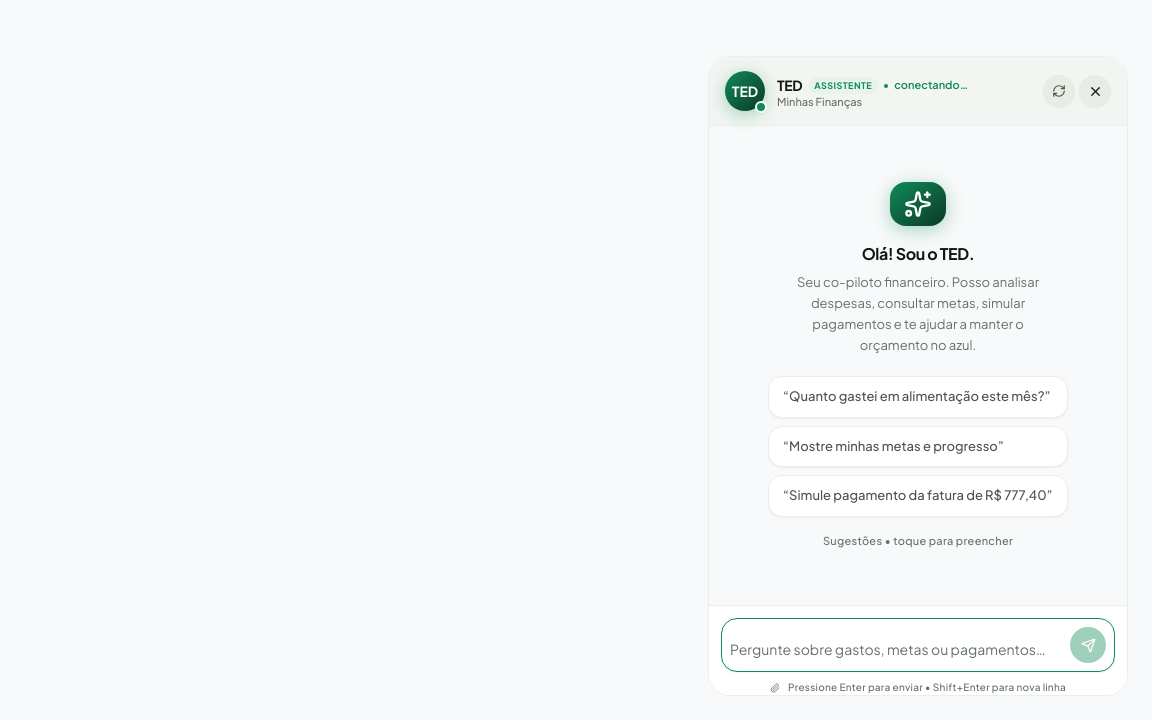
TedChat — post-approval reconciliation (T3.3) › approval success reconciles financial UI AND reloads chat history
This screenshot has width=1152, height=720.
Type "registre mercado 850" into the text box named "Mensagem para o assistente".
click(897, 649); type("registre mercado 850")  # box [730,635,1064,663]
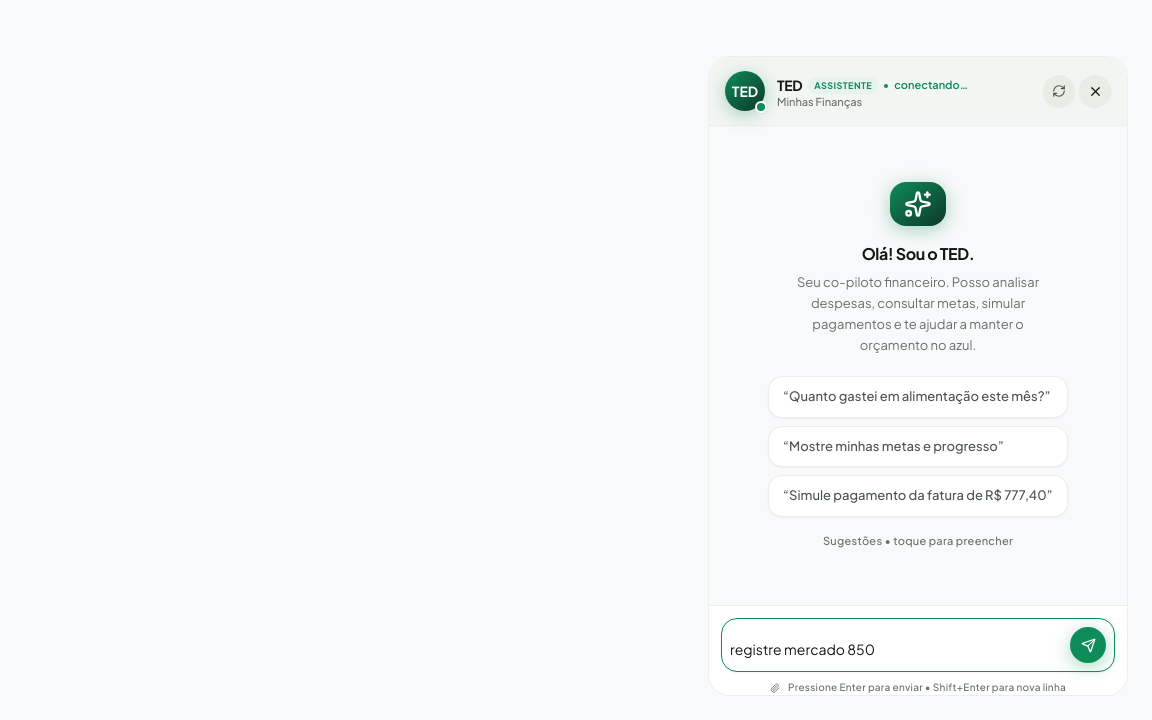
Click the button named "Enviar mensagem".
click(1088, 645)  # box [1070,627,1106,663]
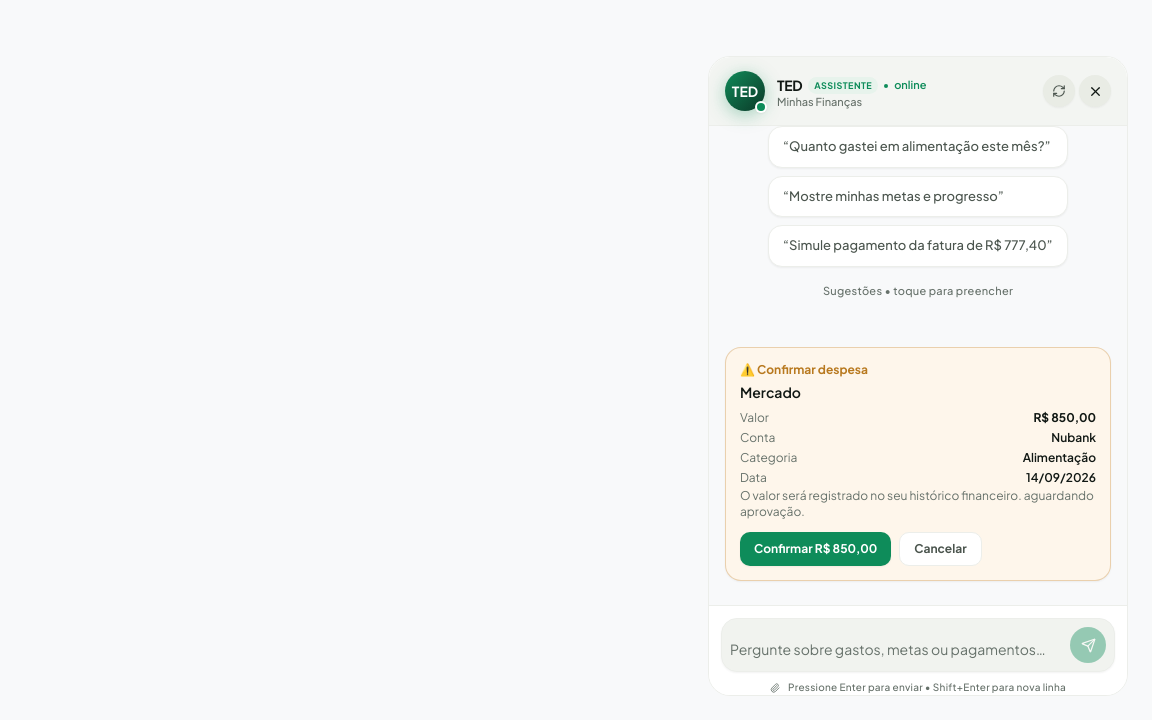
Expected: the button "Confirmar R$ 850,00" is shown
Approve: financial UI reconciles, then chat history reloads.
Click the button "Confirmar R$ 850,00".
click(816, 549)  # box [740,532,891,566]
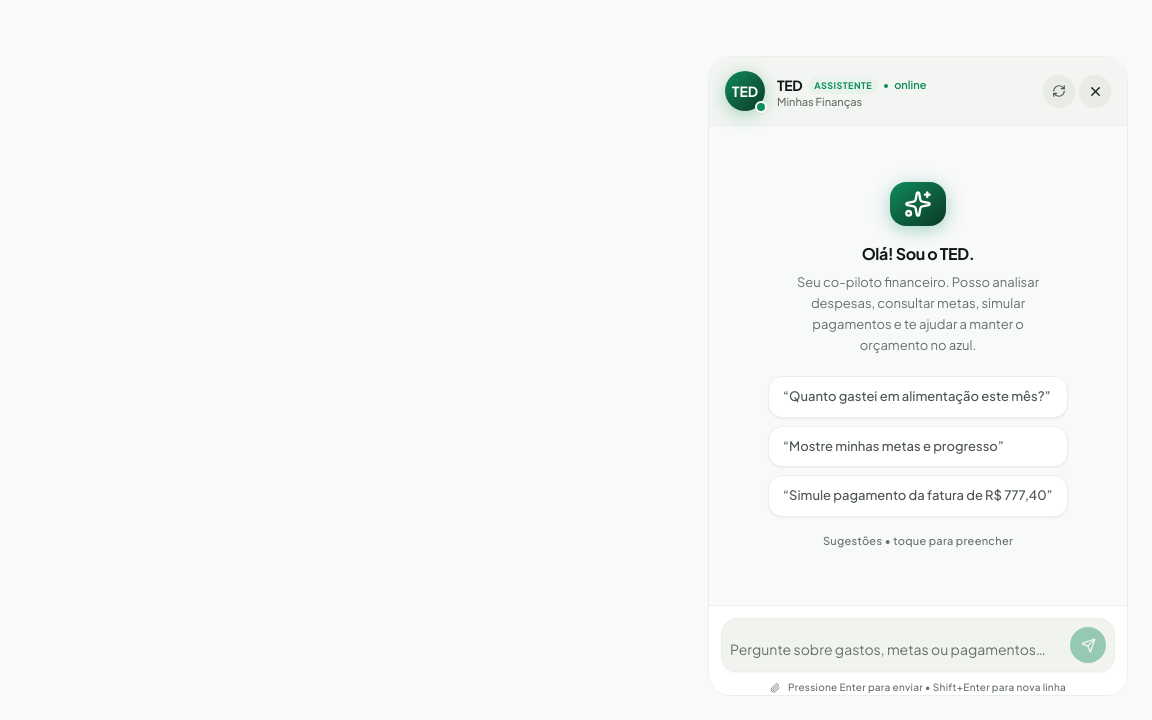
Expected: the button "Confirmar R$ 850,00" is gone
